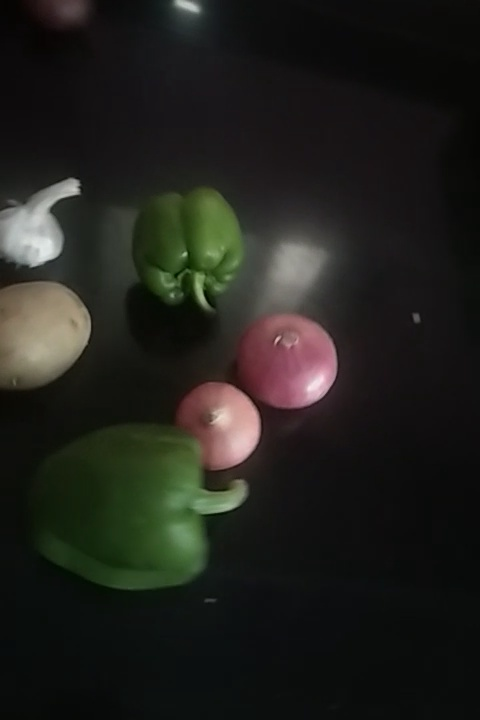capsicum: (24, 421, 244, 592), (137, 187, 256, 317)
garlic: (1, 167, 72, 278)
onion: (235, 305, 349, 409), (165, 375, 272, 476)
potato: (1, 282, 101, 396)
